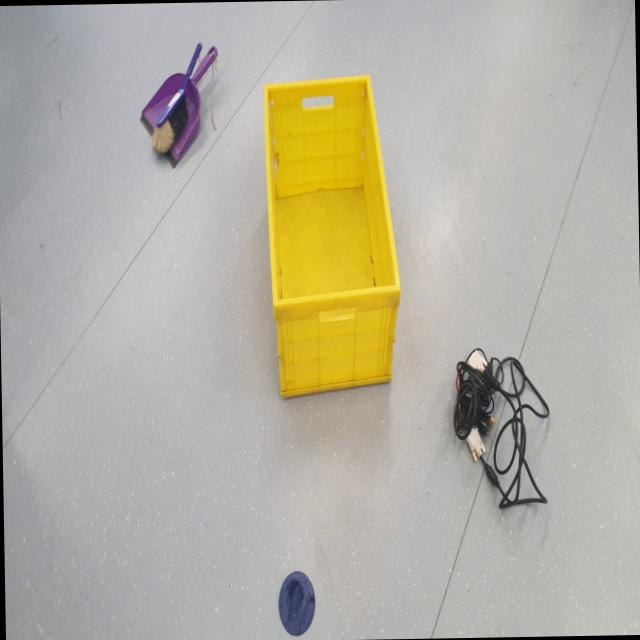box: (253, 43, 414, 430)
